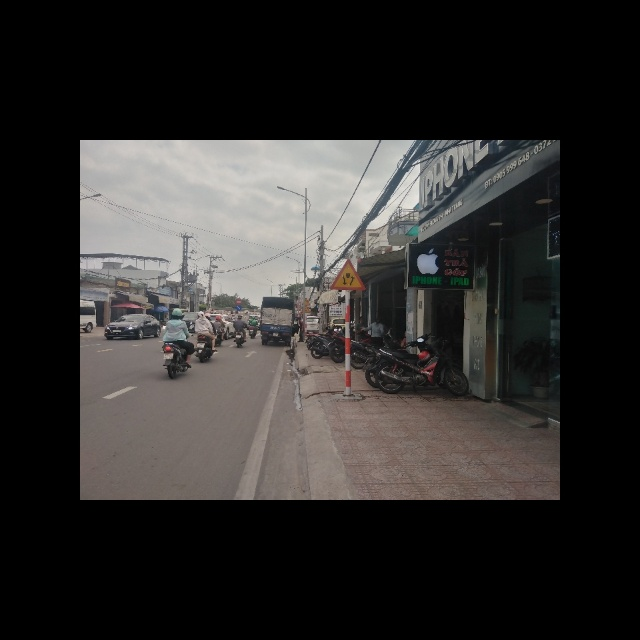Đường đôi: (329, 257, 367, 291)
